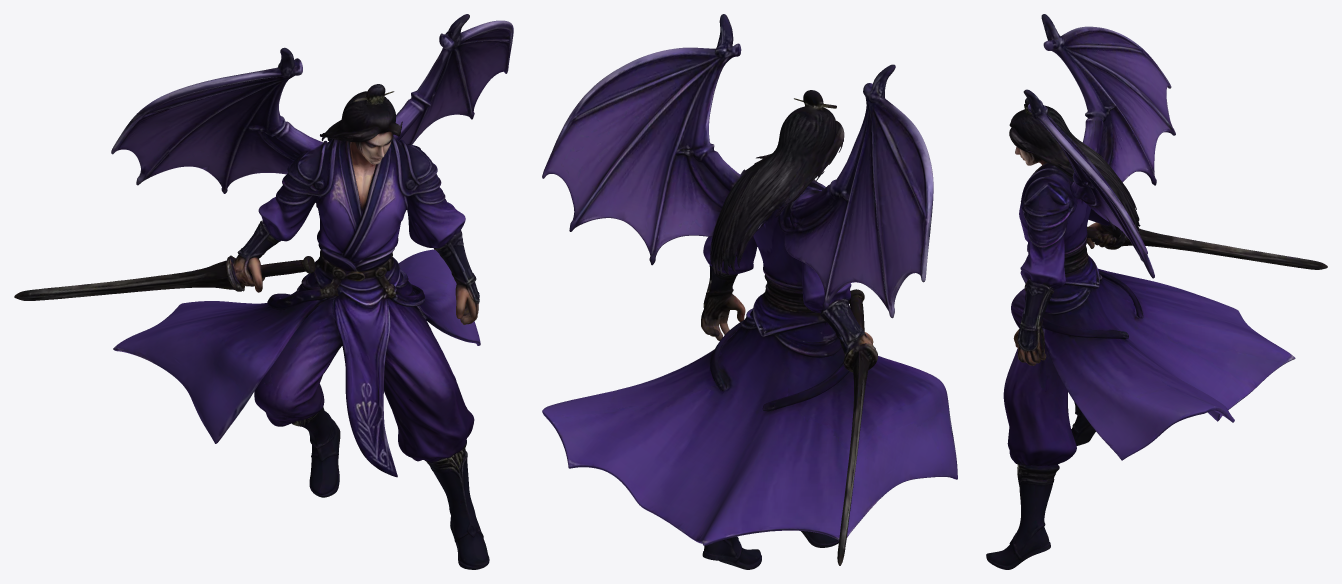
The model's file is wy_web.glb.
The picture shows the model from 3 angles, left to right: view 1: azimuth 30°, elevation 25°; view 2: azimuth 150°, elevation 25°; view 3: azimuth 270°, elevation 25°; orthographic projection. The views are drawn at different scales.
Parts seen in each view (by area): view 1: node_0; view 2: node_0; view 3: node_0.
Part boxes in pixels (<box>): node_0: <box>14,14,513,569</box>; node_0: <box>542,14,957,569</box>; node_0: <box>986,14,1327,569</box>.
Size of the model in its own units: 0.746 by 0.9852 by 0.6397.
1 material, 1 textured.
